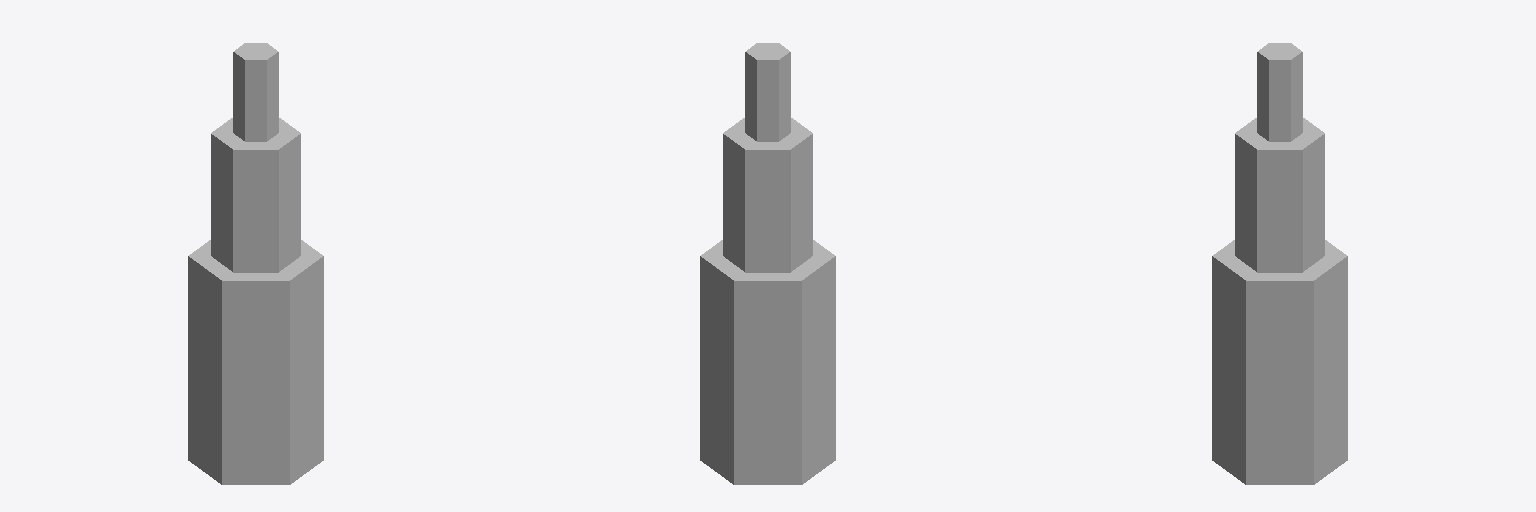
The model's file is small_green_bottle.obj.
3 renders of one model, left to right at view 1: azimuth 30°, elevation 25°; view 2: azimuth 150°, elevation 25°; view 3: azimuth 270°, elevation 25°, orthographic.
Visible parts, largest first — view 1: middle, top, cap; view 2: middle, top, cap; view 3: middle, top, cap.
Boxes of the visible parts, x1,y1,x2,y2 form: middle: [188, 240, 323, 484]; top: [211, 118, 300, 272]; cap: [233, 43, 278, 141]; middle: [700, 240, 835, 484]; top: [723, 118, 812, 272]; cap: [745, 43, 790, 141]; middle: [1212, 240, 1347, 484]; top: [1235, 118, 1324, 272]; cap: [1257, 43, 1302, 141].
Bounding box in the file's own units: 0.1624 × 0.625 × 0.1875.